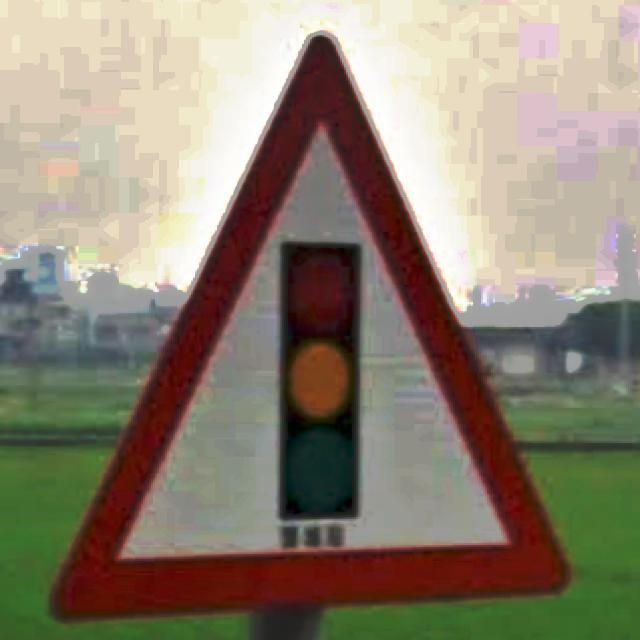signalahead: (50, 35, 572, 624)
